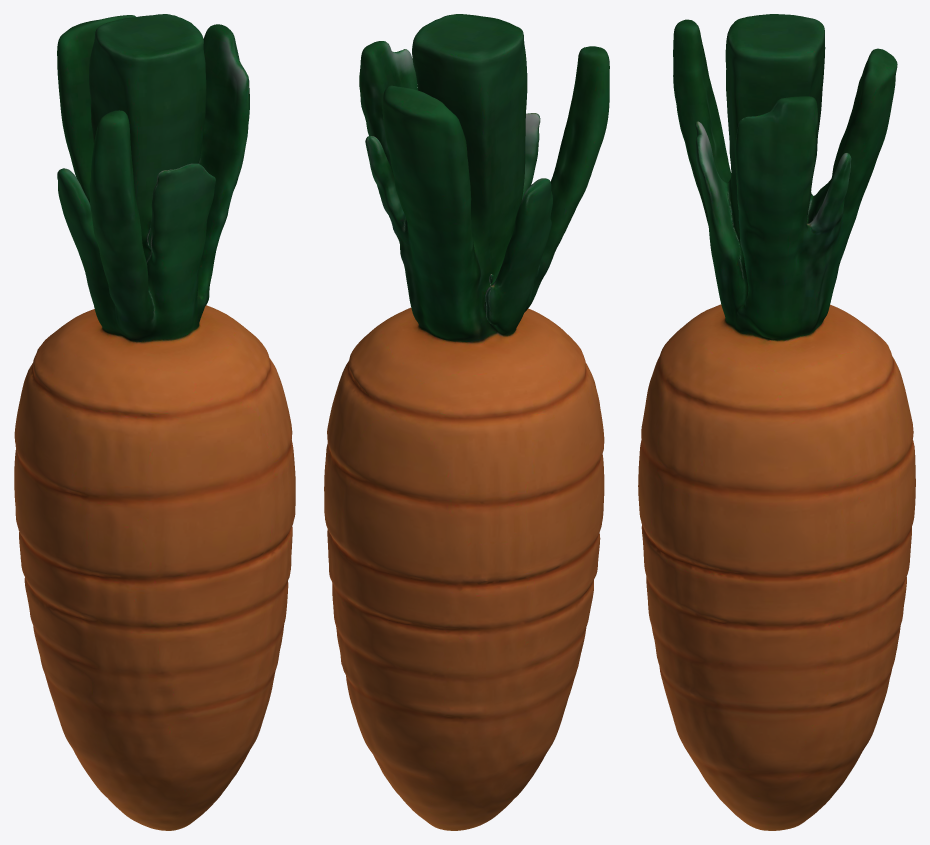
The model's file is 925e9c780d5d_a_carrot__3d_asset_.fbx.
The picture shows the model from 3 angles, left to right: view 1: azimuth 30°, elevation 25°; view 2: azimuth 150°, elevation 25°; view 3: azimuth 270°, elevation 25°; orthographic projection.
Parts seen in each view (by area): view 1: high_poly; view 2: high_poly; view 3: high_poly.
Boxes of the visible parts, <box> form: high_poly: <box>14,14,295,830</box>; high_poly: <box>324,14,609,830</box>; high_poly: <box>638,14,915,830</box>.
Size of the model in its own units: 31.78 by 100 by 32.1.
